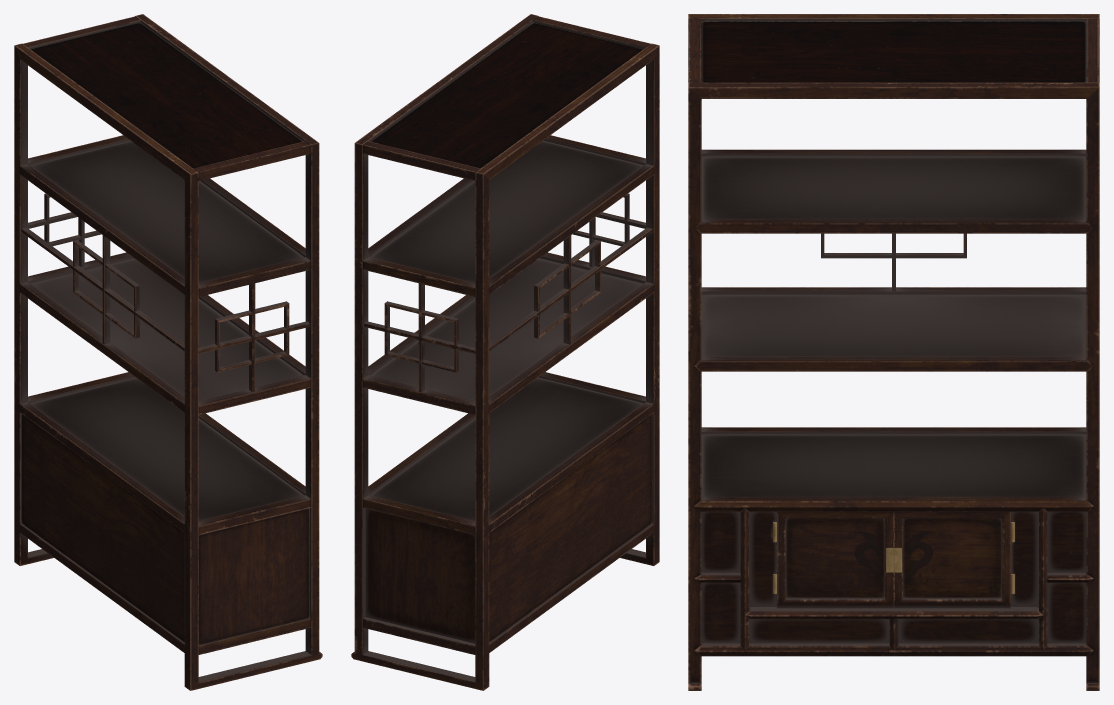
The model's file is oriental_shelf.glb.
The picture shows the model from 3 angles, left to right: view 1: azimuth 30°, elevation 25°; view 2: azimuth 150°, elevation 25°; view 3: azimuth 270°, elevation 25°; orthographic projection. The views are drawn at different scales.
Parts seen in each view (by area): view 1: Masters_shelfB_LP; view 2: Masters_shelfB_LP; view 3: Masters_shelfB_LP.
Part boxes in pixels (<box>): Masters_shelfB_LP: <box>14,14,322,690</box>; Masters_shelfB_LP: <box>351,14,659,690</box>; Masters_shelfB_LP: <box>688,14,1099,690</box>.
Bounding box in the file's own units: 4.58 × 16.73 × 10.34.
Materials: 1 (1 with a texture image).
